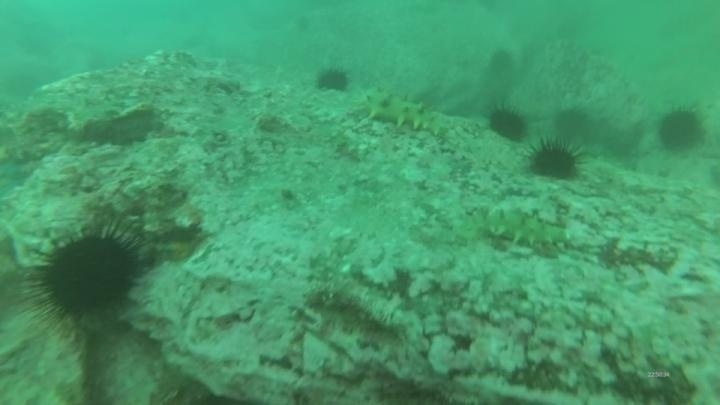echinus: (25, 221, 145, 329), (526, 138, 584, 182), (655, 106, 706, 154), (486, 104, 530, 144), (552, 105, 592, 141), (314, 65, 351, 95), (487, 47, 516, 77)
holothurian: (357, 86, 450, 139), (477, 205, 572, 255)
